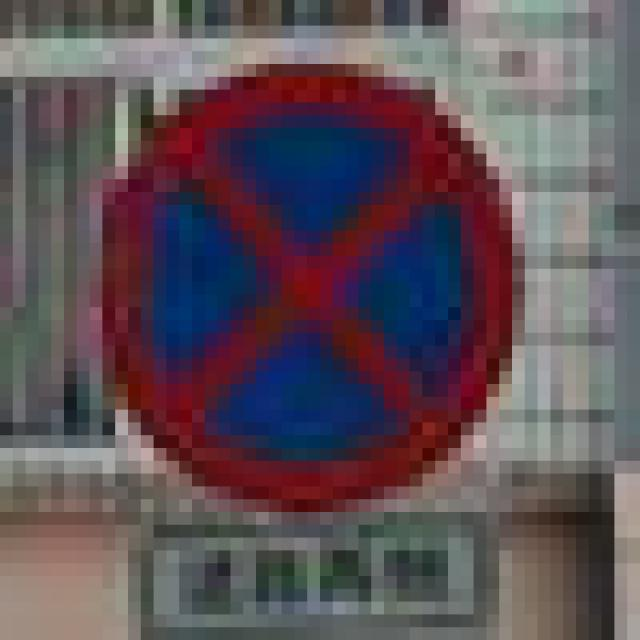NO_STOPPING_OR_STANDING: (90, 51, 512, 499)
